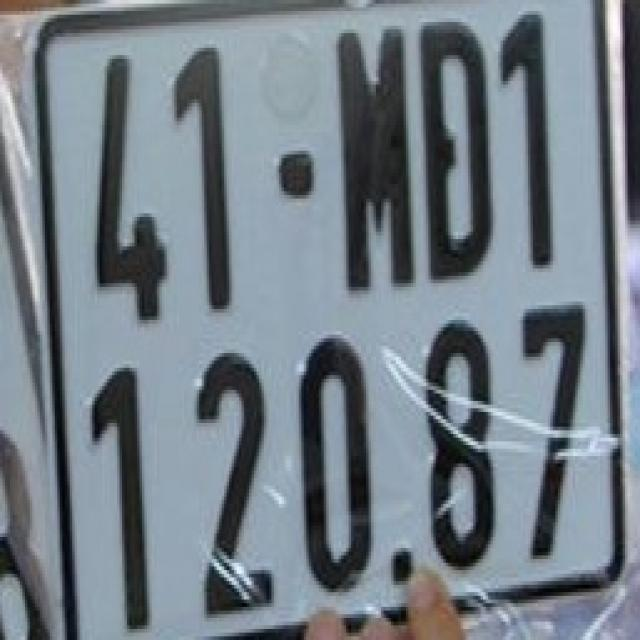0: (296, 327, 376, 596)
1: (85, 360, 164, 629), (169, 40, 244, 312), (498, 11, 560, 269)
2: (189, 338, 279, 618)
4: (87, 51, 174, 328)
7: (516, 294, 588, 566)
8: (421, 309, 500, 570)
D: (418, 22, 493, 280)
M: (333, 24, 422, 292)
